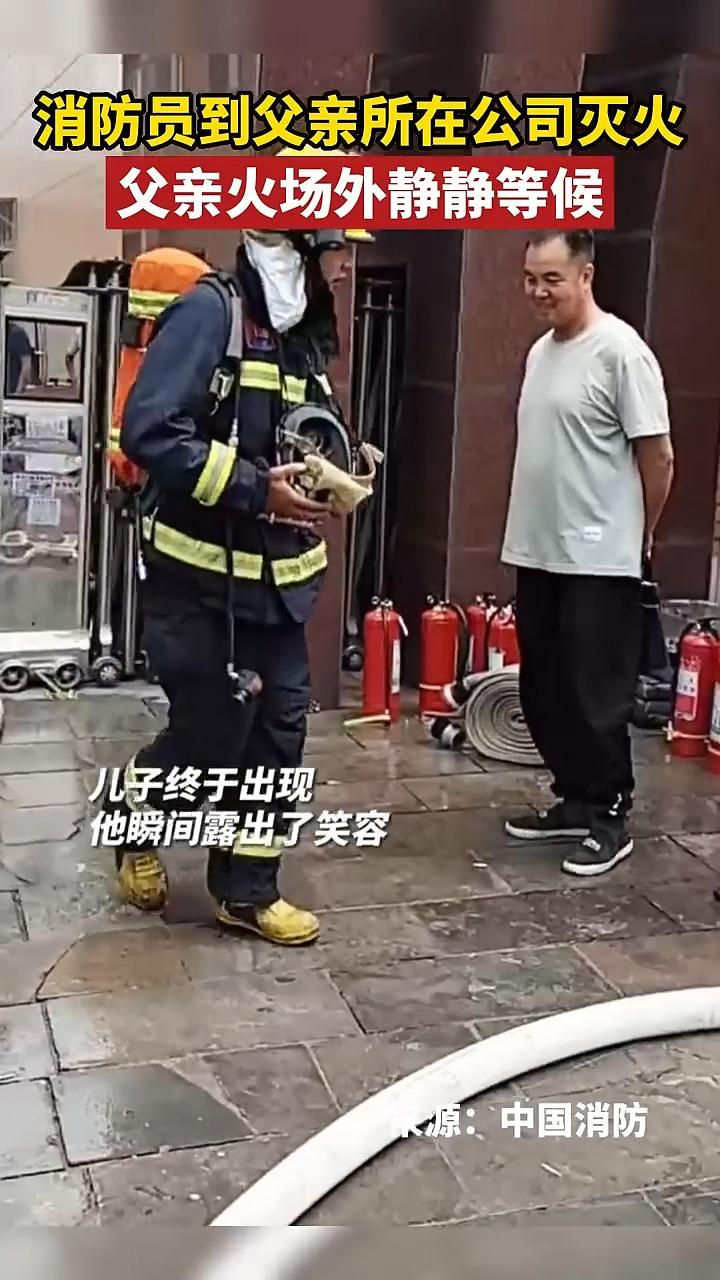FireExtinguisher: (346, 590, 416, 730), (664, 605, 720, 773), (408, 590, 468, 733), (464, 578, 526, 682)
